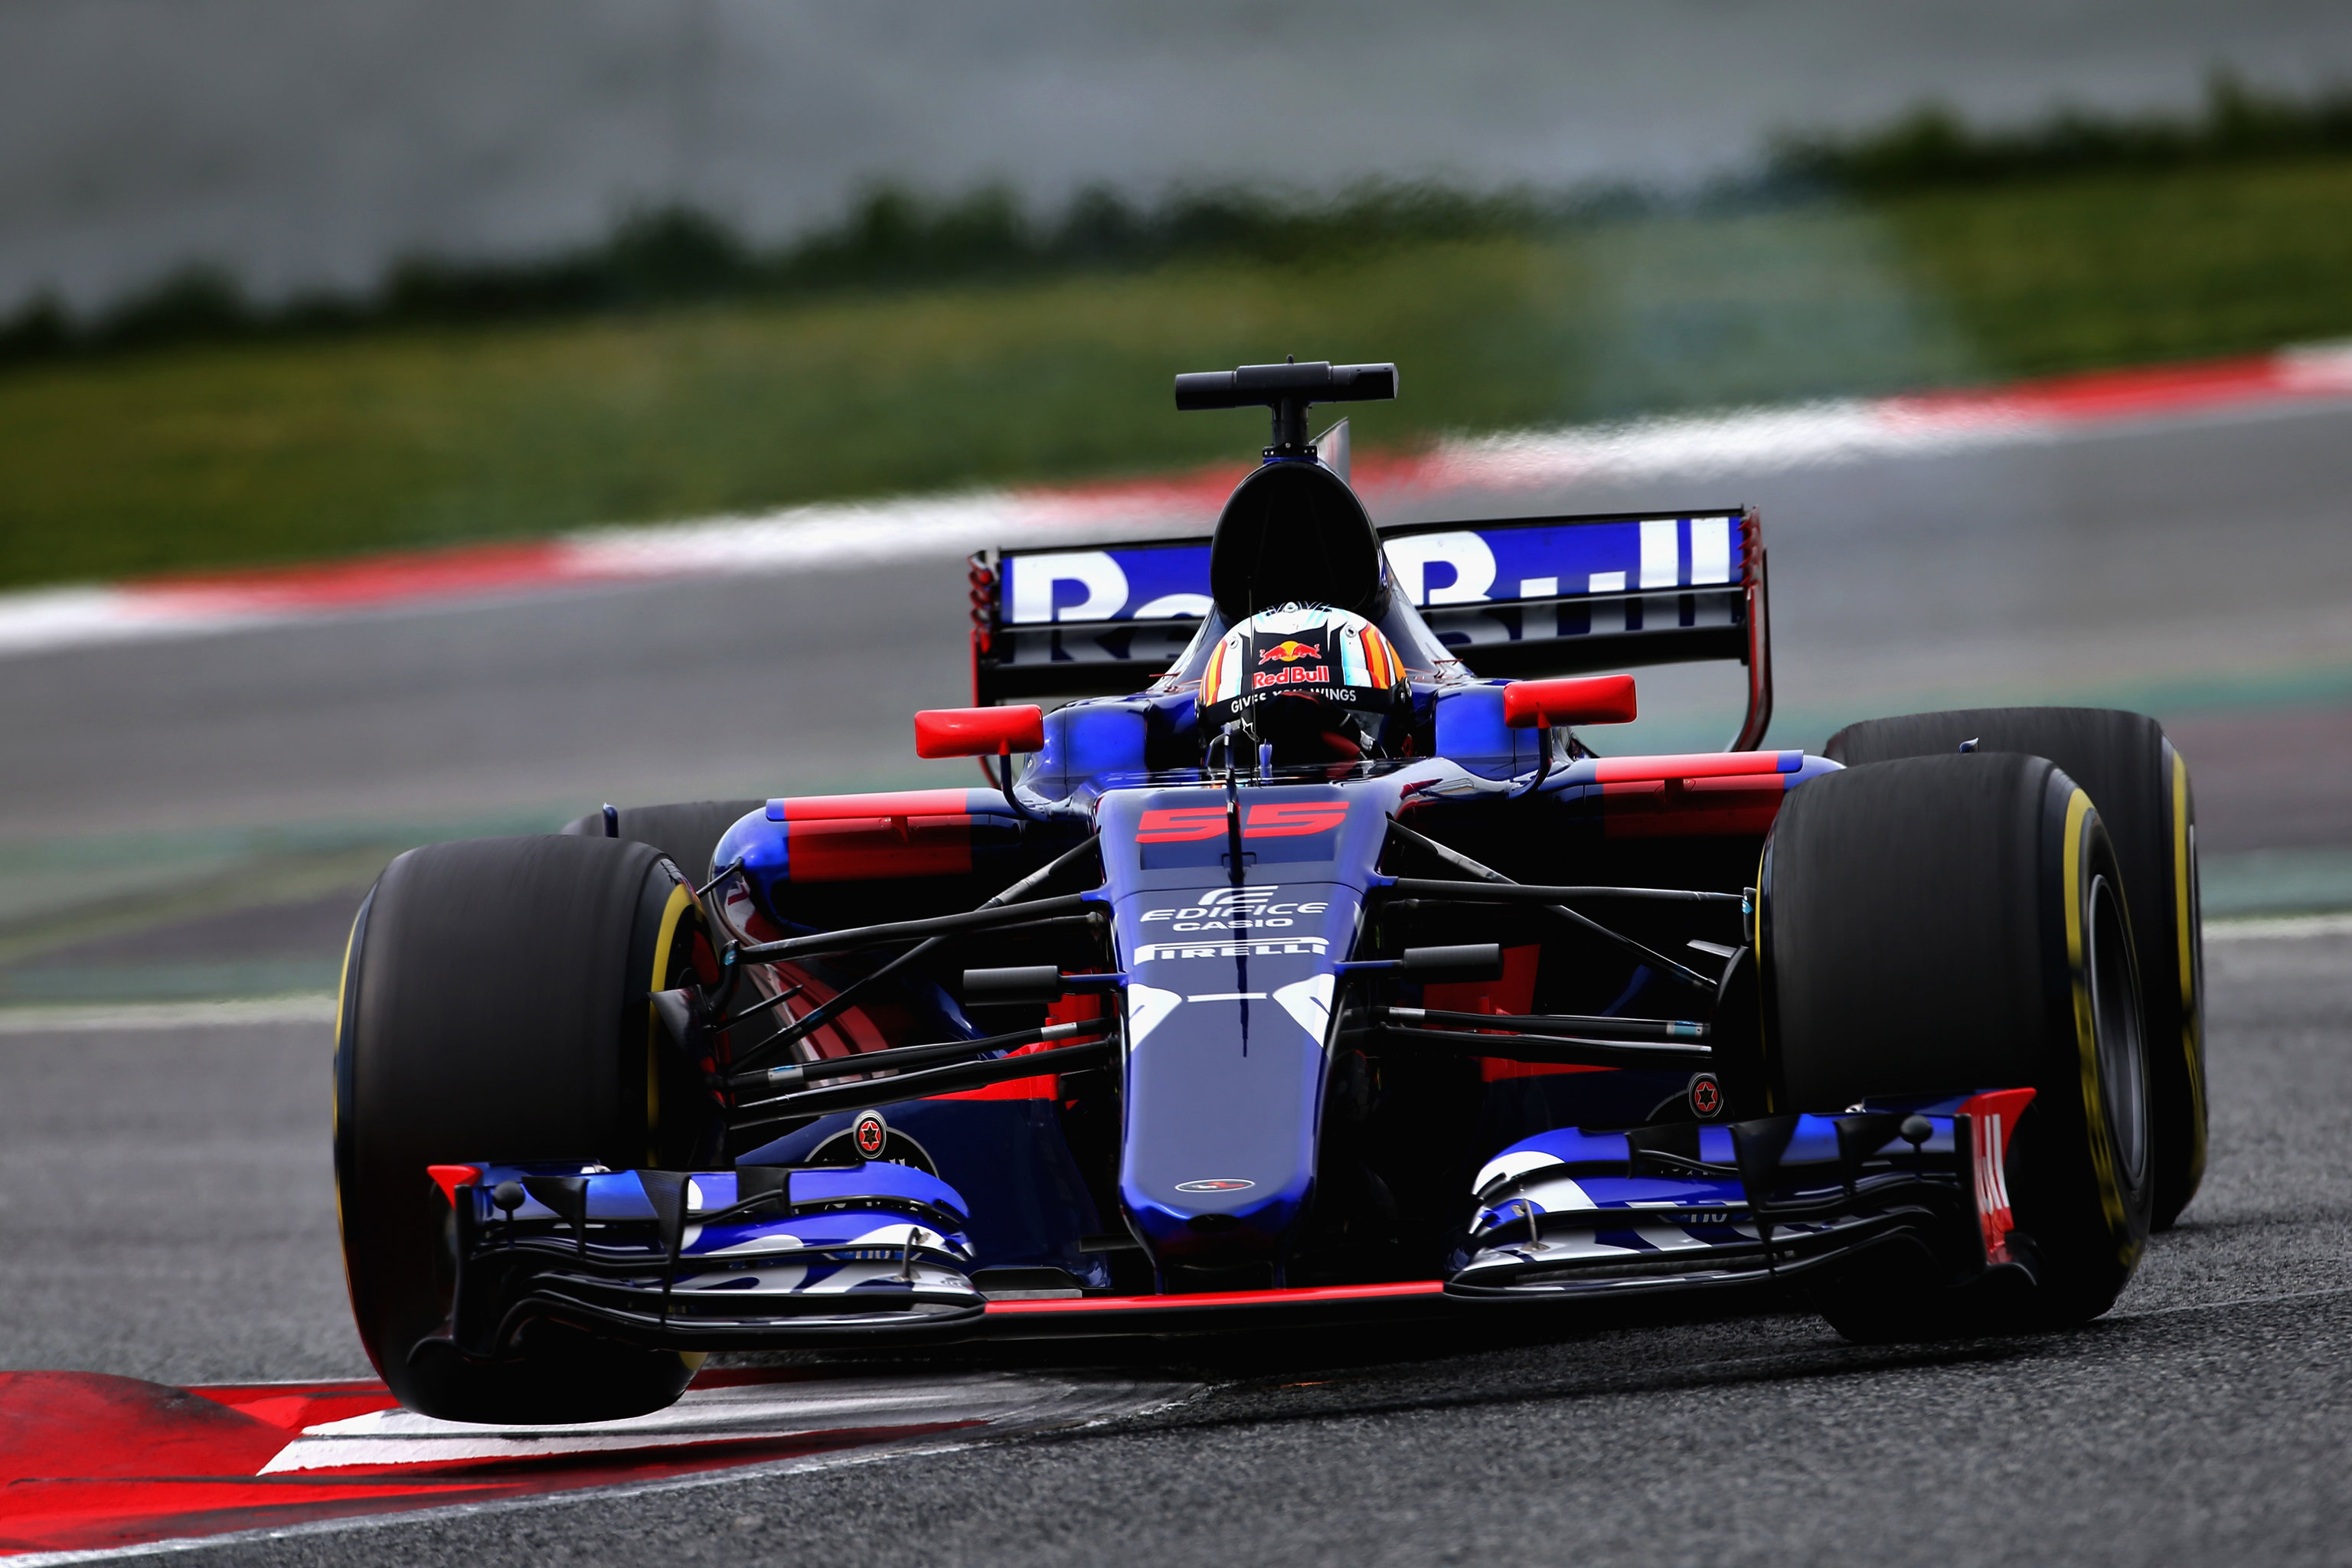F1 Car: (311, 341, 2233, 1412)
